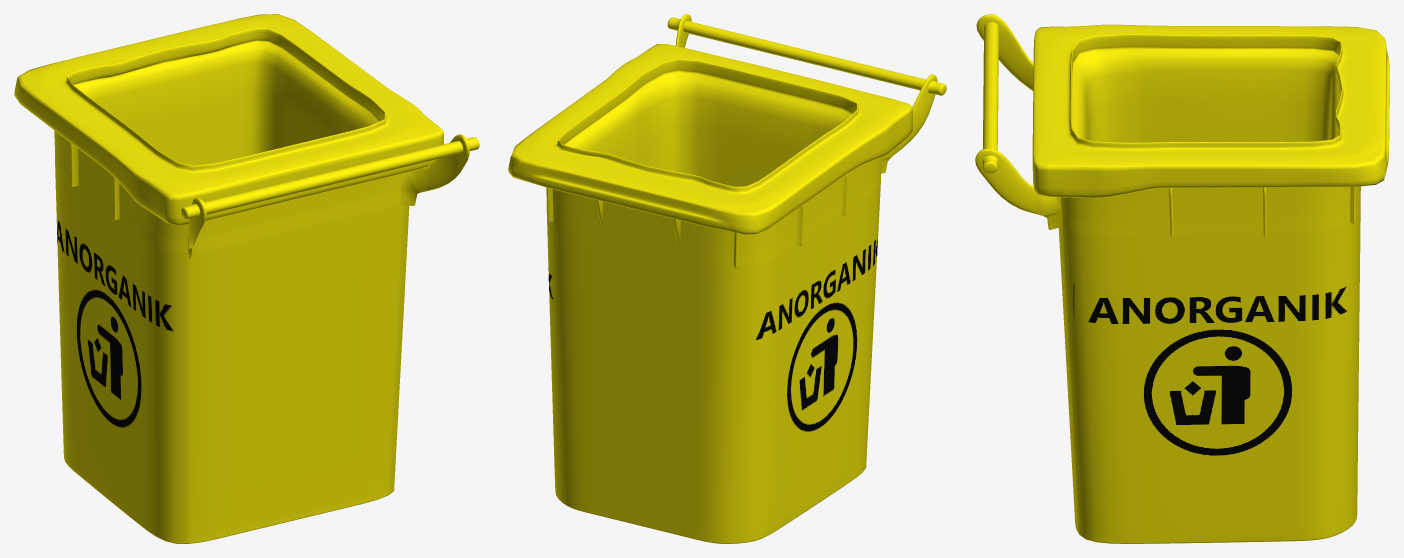
File: only-trash-anorganik.fbx
3 renders of one model, left to right at view 1: azimuth 30°, elevation 25°; view 2: azimuth 150°, elevation 25°; view 3: azimuth 270°, elevation 25°, orthographic. The views are drawn at different scales.
Visible parts, largest first — view 1: BinBaseRim.005; view 2: BinBaseRim.005; view 3: BinBaseRim.005.
Part boxes in pixels (box(x1,y1,x2,y2)): BinBaseRim.005: box(14, 14, 479, 543); BinBaseRim.005: box(508, 14, 946, 543); BinBaseRim.005: box(975, 14, 1389, 543).
Bounding box in the file's own units: 252 × 317 × 295.
